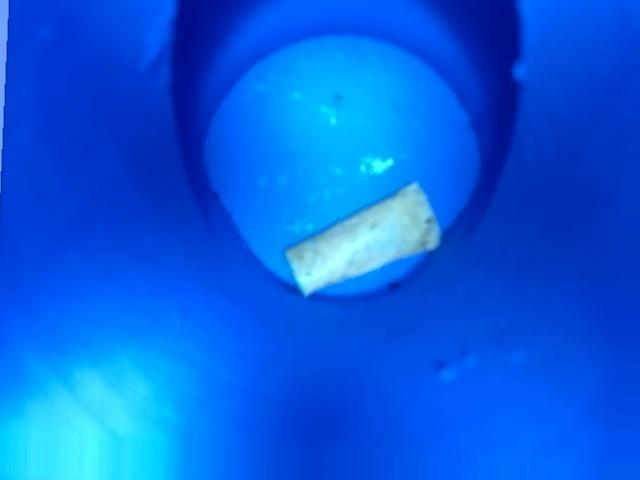megot: (269, 169, 457, 329)
